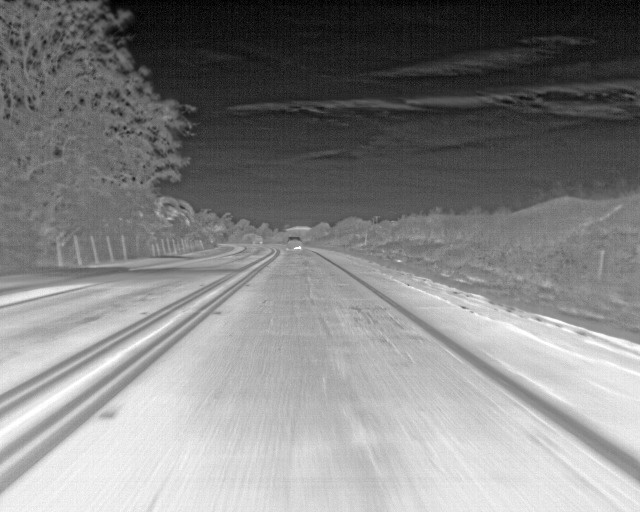car: (284, 234, 307, 253)
